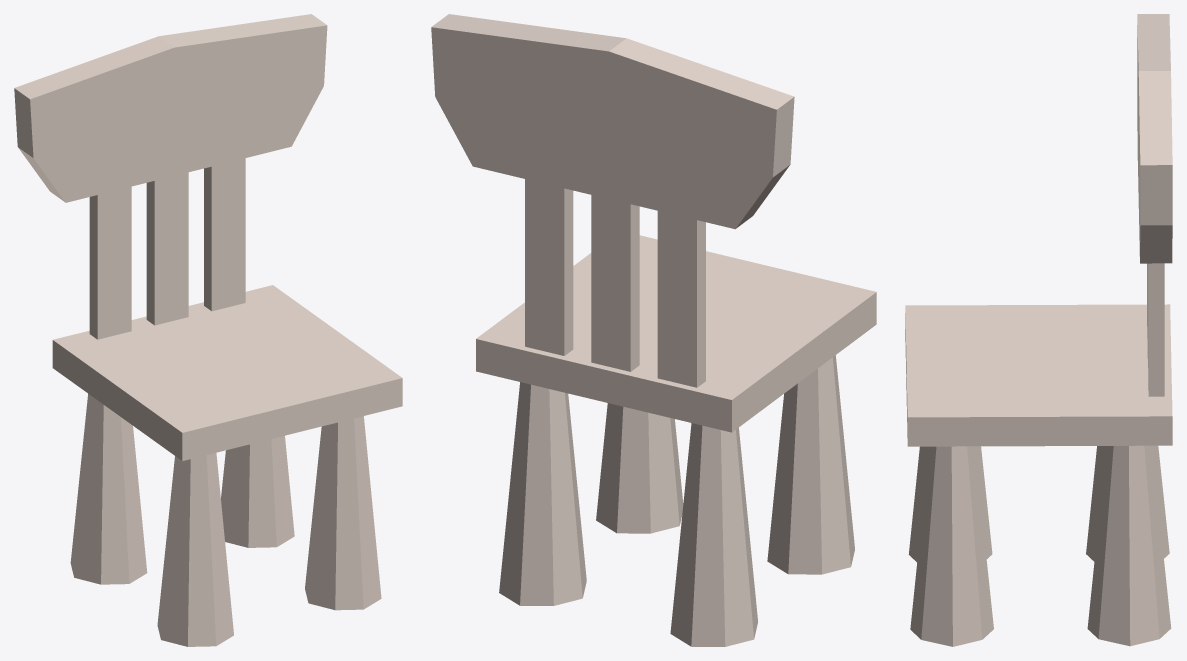
The model's file is Chair_15.fbx.
3 renders of one model, left to right at view 1: azimuth 30°, elevation 25°; view 2: azimuth 150°, elevation 25°; view 3: azimuth 270°, elevation 25°, orthographic. The views are drawn at different scales.
Visible parts, largest first — view 1: Chair_15; view 2: Chair_15; view 3: Chair_15.
Part boxes in pixels (box(x1,y1,x2,y2)): Chair_15: box(14, 14, 402, 646); Chair_15: box(431, 14, 876, 646); Chair_15: box(905, 14, 1172, 646).
Bounding box in the file's own units: 72.85 × 54.42 × 116.
